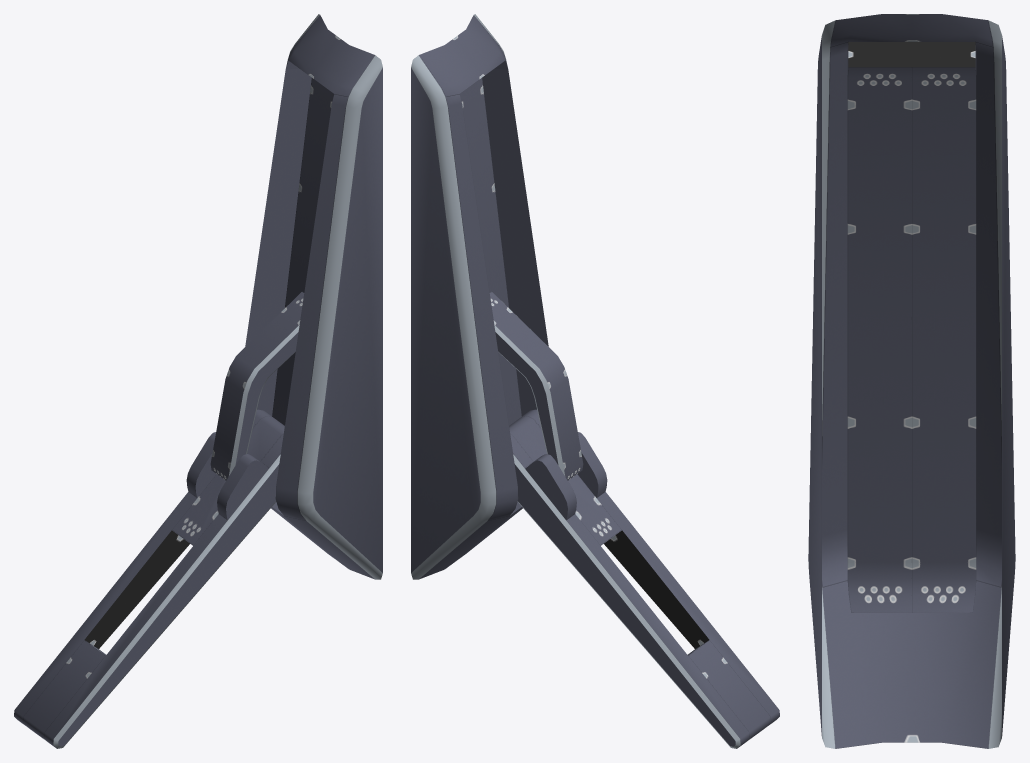
Rendered from Space_X_Landing.FBX.
3 renders of one model, left to right at view 1: azimuth 30°, elevation 25°; view 2: azimuth 150°, elevation 25°; view 3: azimuth 270°, elevation 25°, orthographic. The views are drawn at different scales.
Visible parts, largest first — view 1: Space_X_Landing, Gear_A; view 2: Space_X_Landing, Gear_A; view 3: Space_X_Landing.
Part boxes in pixels (x1,y1,x2,y2): Space_X_Landing: (245,14,382,579); Gear_A: (14,292,304,748); Space_X_Landing: (411,14,548,579); Gear_A: (489,292,779,748); Space_X_Landing: (808,14,1015,748).
Size of the model in its own units: 8.52 by 16.04 by 3.47.
1 material, 1 textured.
